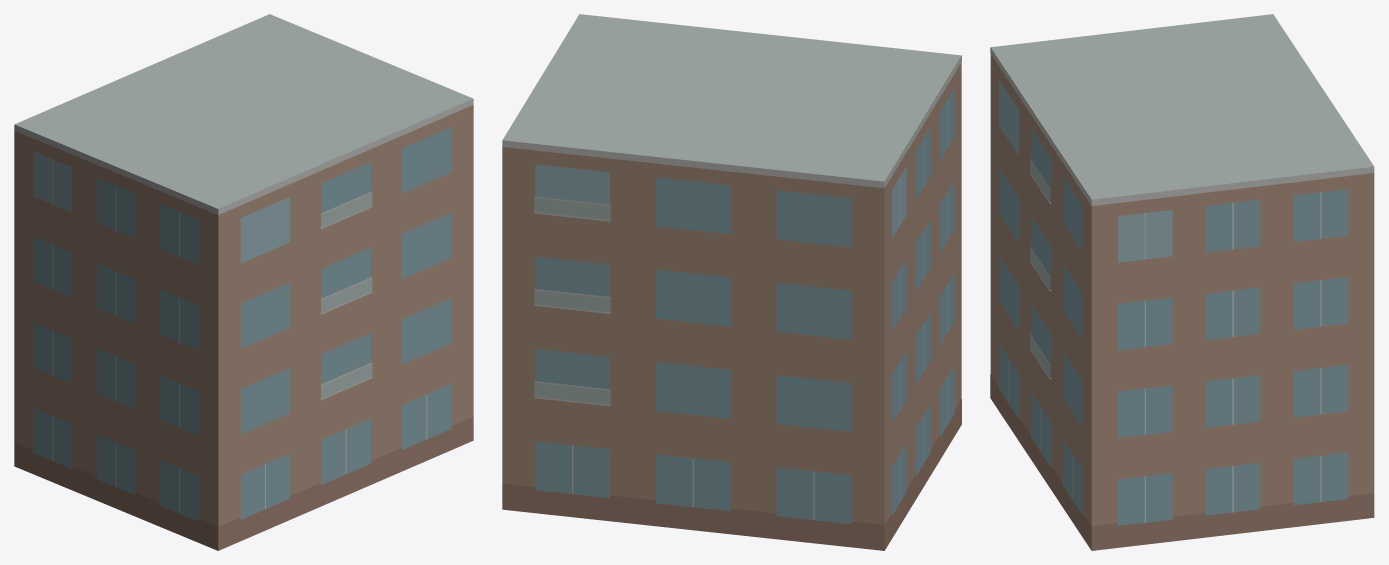
The model's file is survey-upis-32720561.glb.
3 renders of one model, left to right at view 1: azimuth 30°, elevation 25°; view 2: azimuth 150°, elevation 25°; view 3: azimuth 270°, elevation 25°, orthographic. The views are drawn at different scales.
Visible parts, largest first — view 1: survey-upis-32720561.tmp; view 2: survey-upis-32720561.tmp; view 3: survey-upis-32720561.tmp.
Boxes of the visible parts, bbox=[...] form: survey-upis-32720561.tmp: bbox=[14, 14, 473, 550]; survey-upis-32720561.tmp: bbox=[502, 14, 961, 550]; survey-upis-32720561.tmp: bbox=[990, 14, 1374, 550].
Size of the model in its own units: 15.45 by 13.6 by 13.49.
